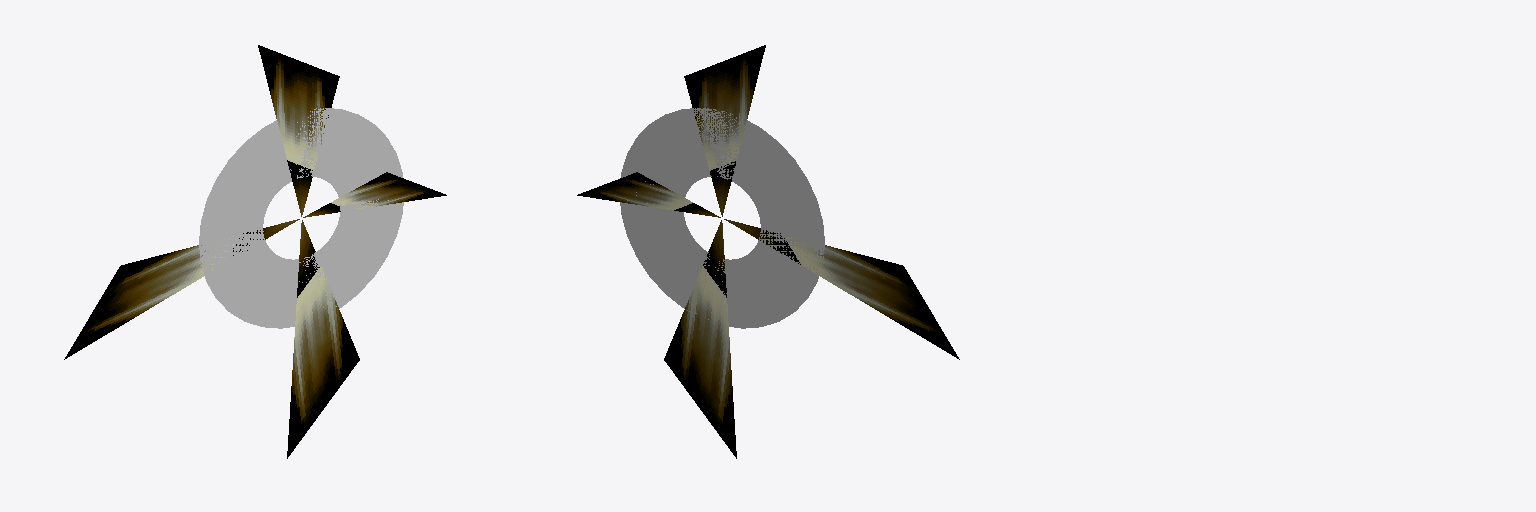
3 renders of one model, left to right at view 1: azimuth 30°, elevation 25°; view 2: azimuth 150°, elevation 25°; view 3: azimuth 270°, elevation 25°, orthographic.
Visible parts, largest first — view 1: polygon1, polygon0; view 2: polygon1, polygon0; view 3: none.
Boxes of the visible parts, box(x1,y1,x2,y2) form: polygon1: box(199, 108, 403, 328); polygon0: box(64, 45, 446, 458); polygon1: box(620, 108, 824, 328); polygon0: box(577, 45, 959, 458).
Size of the model in its own units: 48.51 by 50.89 by 0.
Materials: 2 (1 with a texture image).